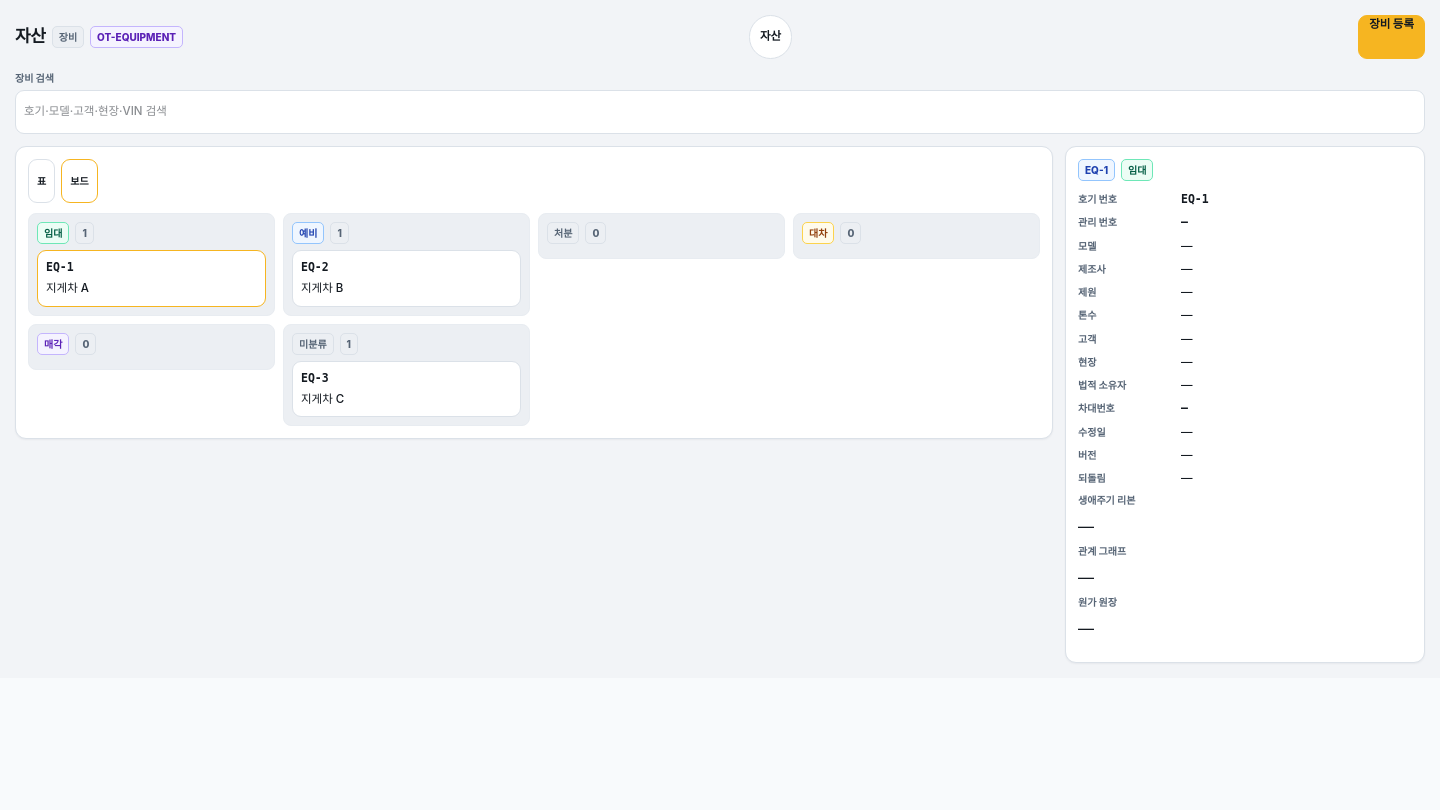
Test: module engine (registry-driven GenericModuleScreen) › renders registry-driven kanban lanes; a card click selects the row
The image size is (1440, 810).
Expected: the button "EQ-1 지게차 A" is shown, [37,250,266,306]
Expected: the button "EQ-3 지게차 C" is shown, [292,360,521,417]
Click the button "EQ-2 지게차 B".
click(406, 278)  # box [292,250,521,306]
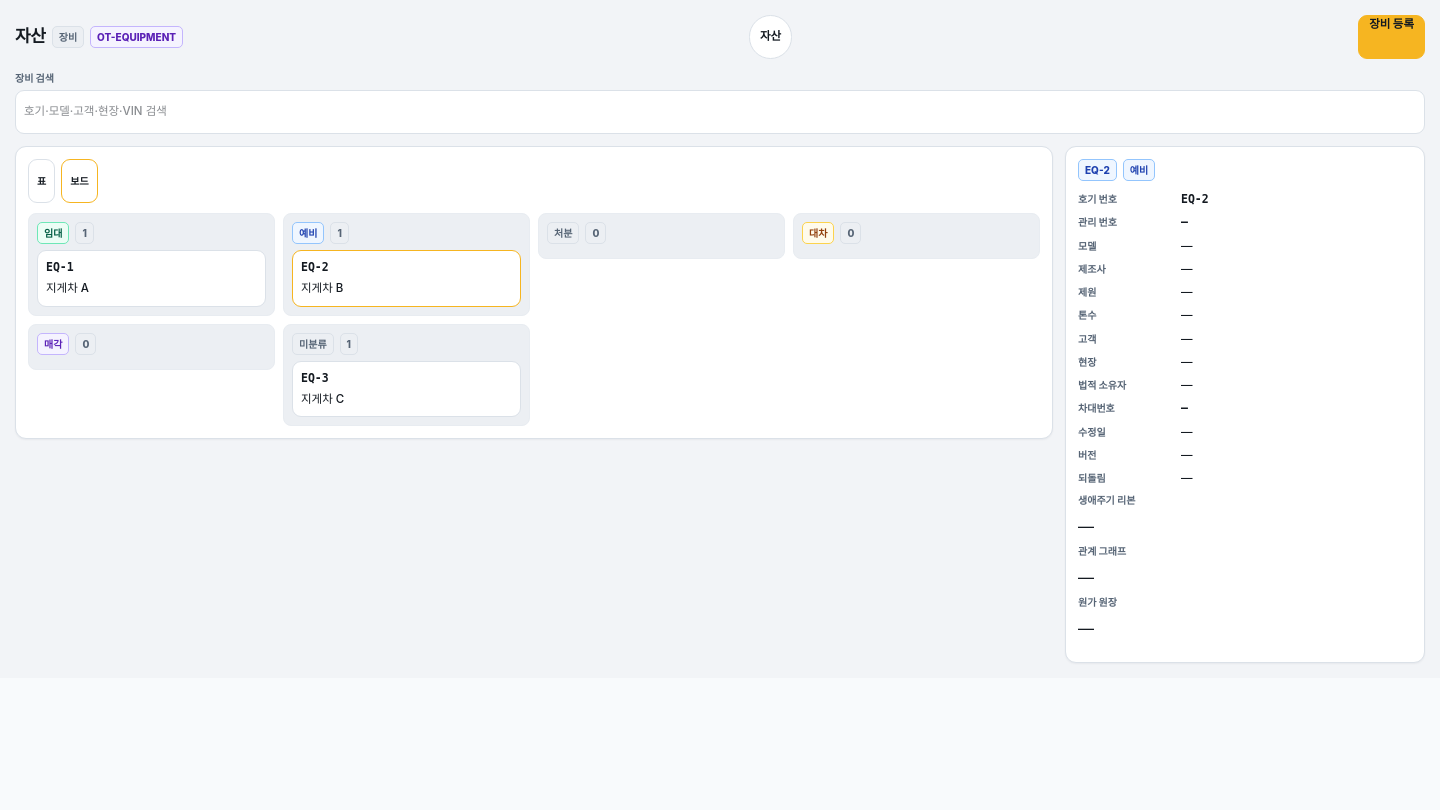
Note: §4-25 ⑧ display alternates: the toggle switches back to the table.
Click the button "표".
click(42, 181)  # box [28,159,55,203]
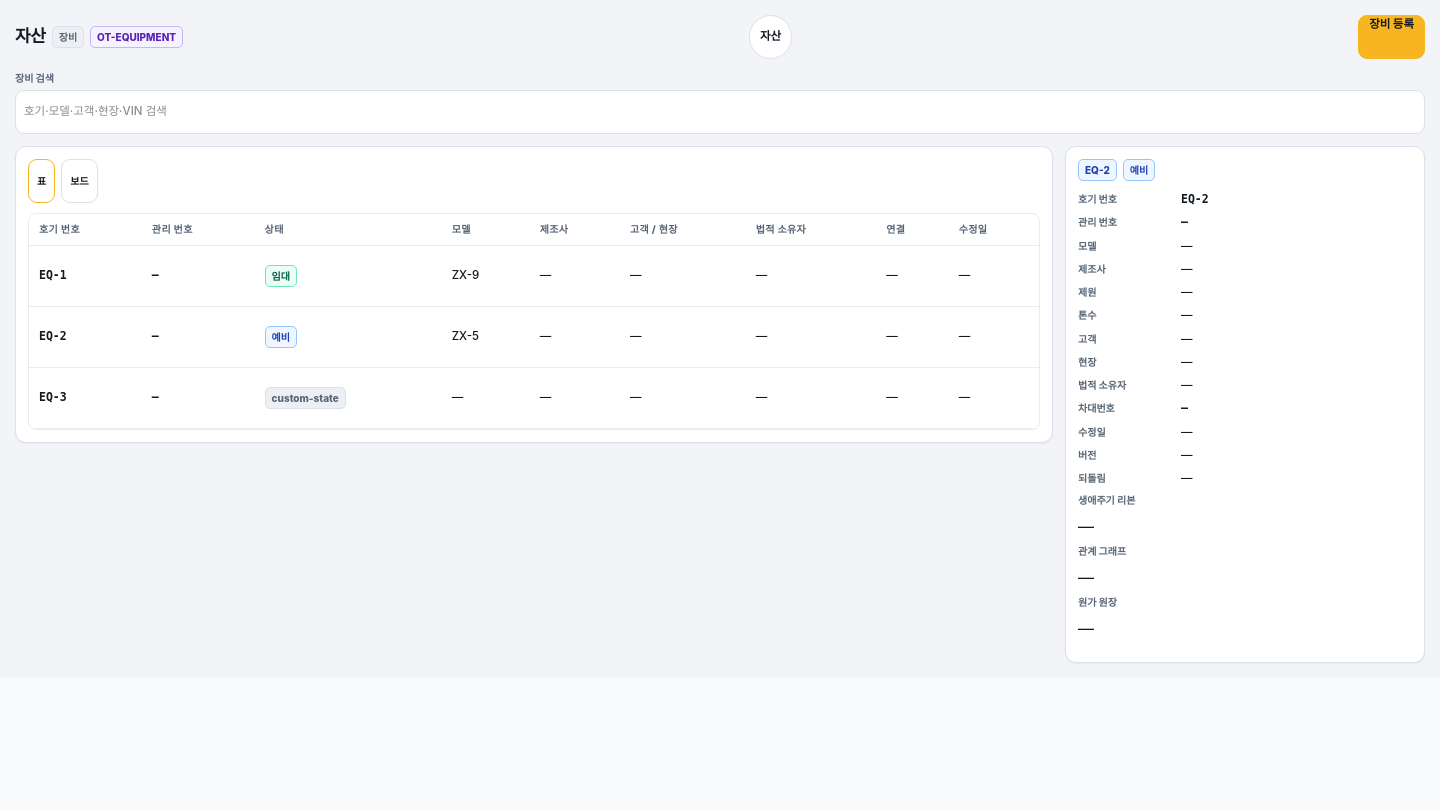
Expected: the table is shown, [29,214,1039,429]
